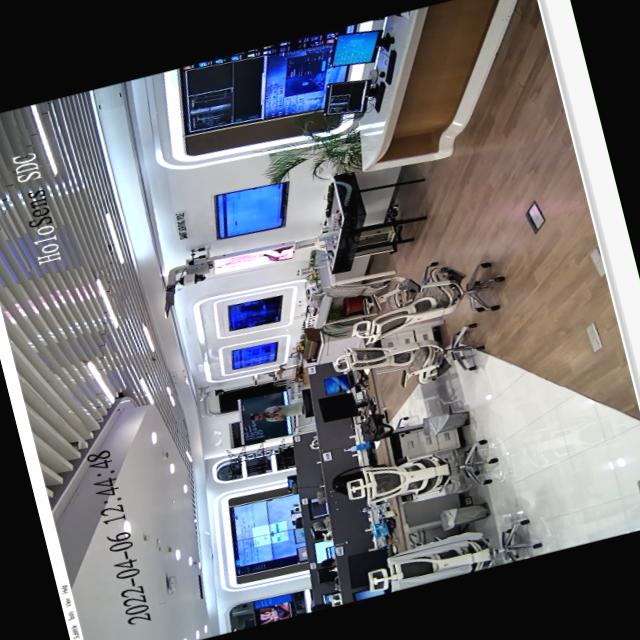long weapon: (260, 406, 279, 420)
